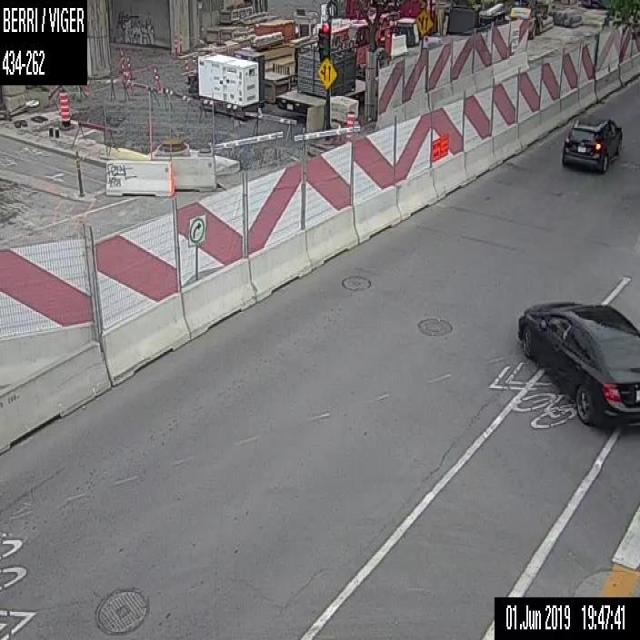construction: (59, 85, 71, 129), (346, 109, 353, 142)
vehicle: (514, 298, 639, 426), (560, 112, 622, 171)
